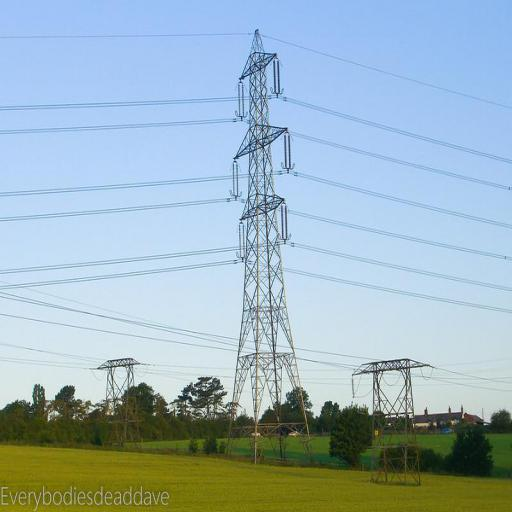ss_3: (223, 28, 318, 468)
wt_5: (351, 357, 431, 484), (95, 358, 143, 446)
